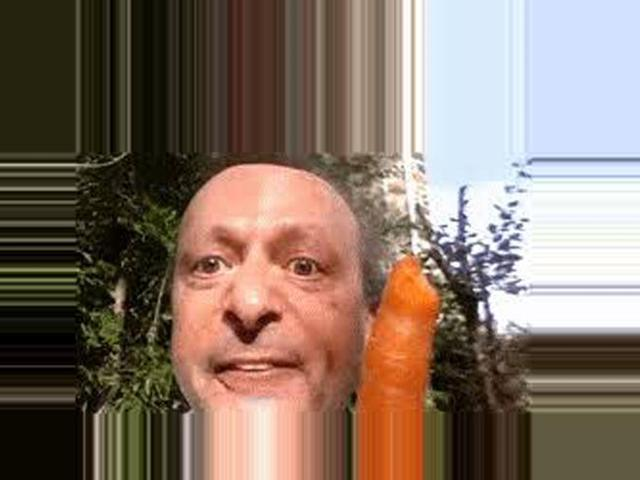carrot: (356, 252, 444, 415)
